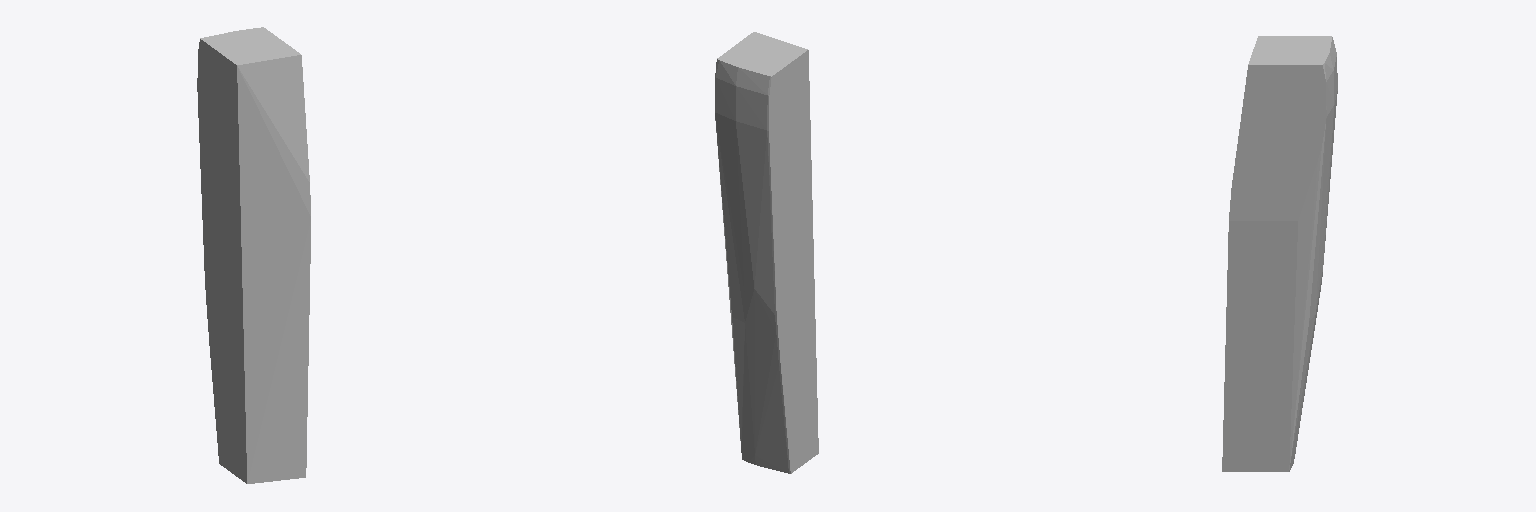
File: phantom-elastrat_collision_243.obj
3 views of the same model, side by side, from view 1: azimuth 30°, elevation 25°; view 2: azimuth 150°, elevation 25°; view 3: azimuth 270°, elevation 25° (orthographic).
Size of the model in its own units: 0.0021 by 0.0137 by 0.0035.